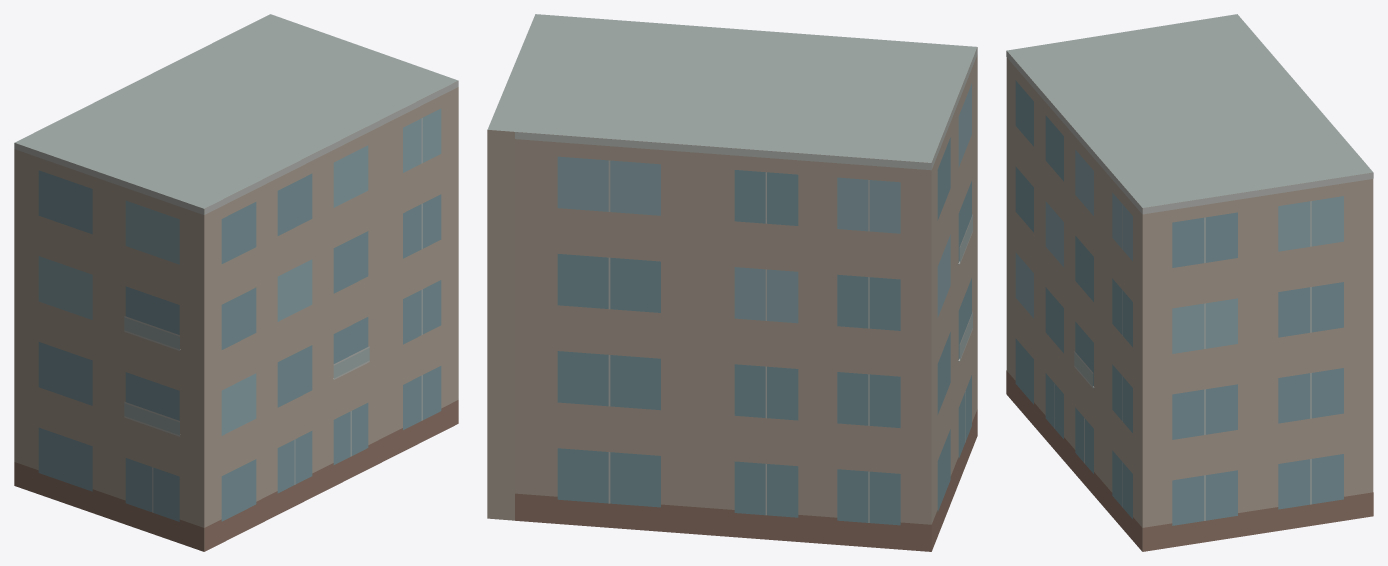
File: survey-upis-32974062.glb
3 renders of one model, left to right at view 1: azimuth 30°, elevation 25°; view 2: azimuth 150°, elevation 25°; view 3: azimuth 270°, elevation 25°, orthographic. The views are drawn at different scales.
Visible parts, largest first — view 1: survey-upis-32974062.tmp; view 2: survey-upis-32974062.tmp; view 3: survey-upis-32974062.tmp.
Boxes of the visible parts, x1,y1,x2,y2 form: survey-upis-32974062.tmp: [14, 14, 458, 551]; survey-upis-32974062.tmp: [487, 14, 977, 551]; survey-upis-32974062.tmp: [1006, 14, 1373, 551].
Size of the model in its own units: 15.99 by 13.2 by 12.77.
